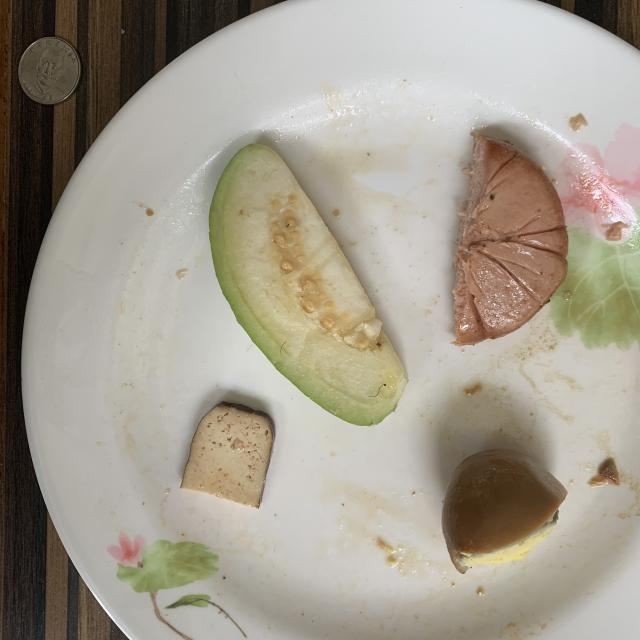Spam: (452, 134, 568, 345)
coin: (19, 38, 81, 105)
firm tofu: (181, 404, 274, 508)
guava -sliced-: (209, 144, 408, 425)
soy egg: (441, 449, 568, 574)
